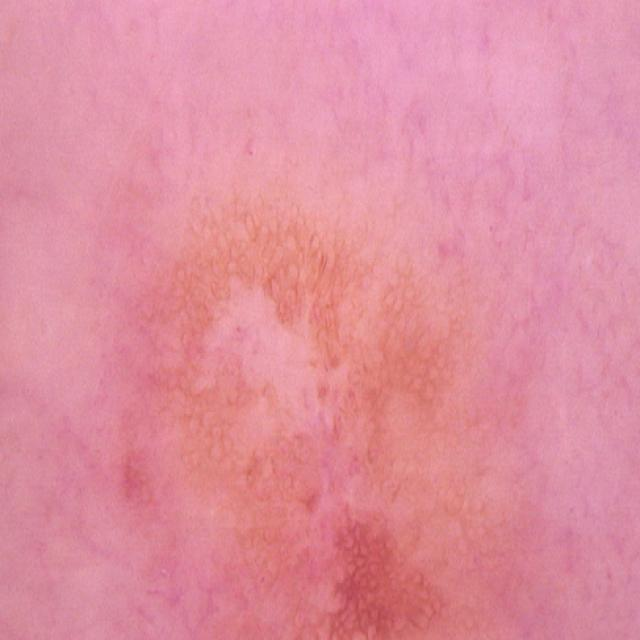Dermatofibroma: (135, 174, 509, 640)
